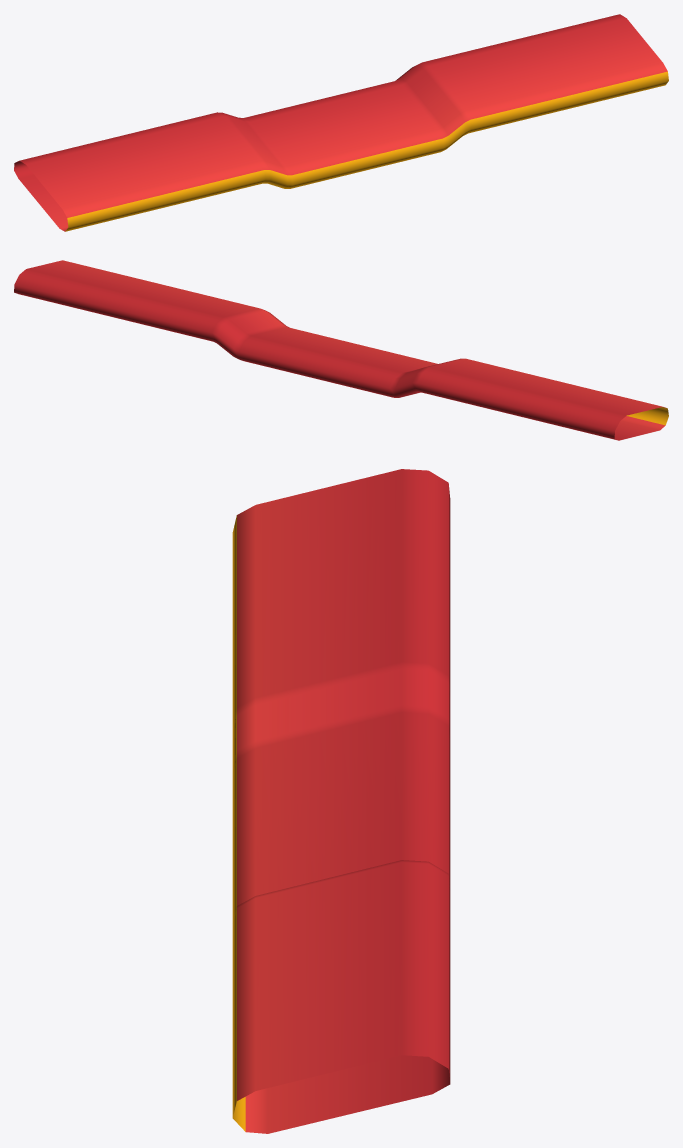
Rendered from Car_10_Spoiler.fbx.
The picture shows the model from 3 angles, top to bottom: view 1: azimuth 30°, elevation 25°; view 2: azimuth 150°, elevation 25°; view 3: azimuth 270°, elevation 25°; orthographic projection. The views are drawn at different scales.
Visible parts, largest first — view 1: Car_10_Spoiler; view 2: Car_10_Spoiler; view 3: Car_10_Spoiler.
Boxes of the visible parts, x1,y1,x2,y2 form: Car_10_Spoiler: [14, 14, 668, 231]; Car_10_Spoiler: [14, 260, 668, 440]; Car_10_Spoiler: [232, 469, 450, 1133].
Bounding box in the file's own units: 185 × 28.93 × 15.1.
